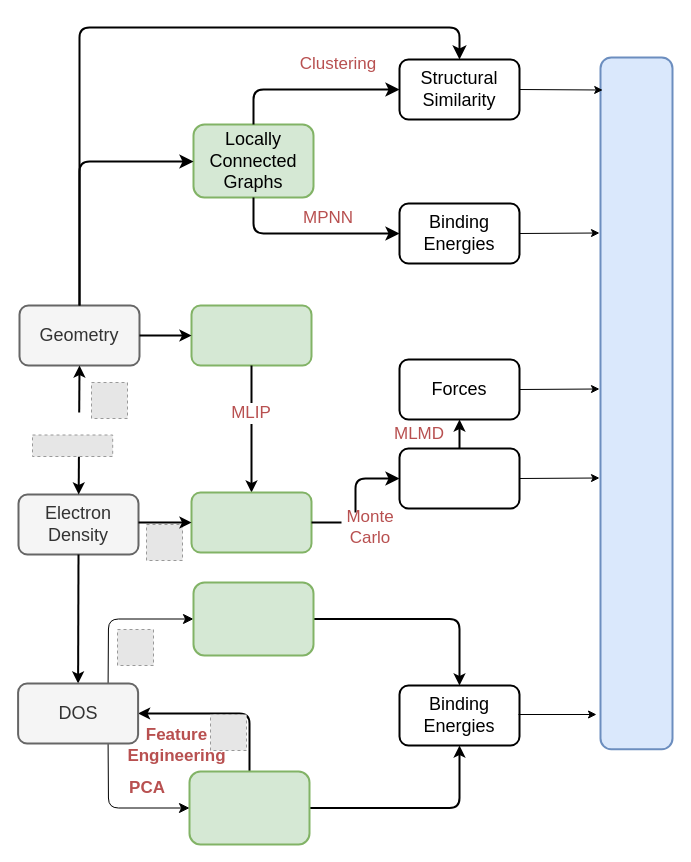
This 691x862 diagram has some shape labels left out. Grey dashed boxes stand in for pictures. The shapes that lost their labels are listed below. From the top down, each one's box as (x1, y1, x2, y2) in pixels, then its label:
(190, 304, 312, 366): Symmetry Functions
(599, 56, 673, 750): Structural and Dynamic Properties, Performance indicators
(25, 412, 120, 456): ab initio
(398, 447, 520, 509): PES
(190, 491, 312, 553): Many-Body Potentials
(192, 581, 314, 656): Moments Fine structure
(188, 770, 310, 845): Descriptors
